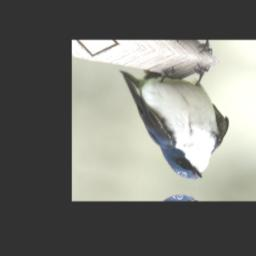Swallow: (102, 49, 241, 185)
